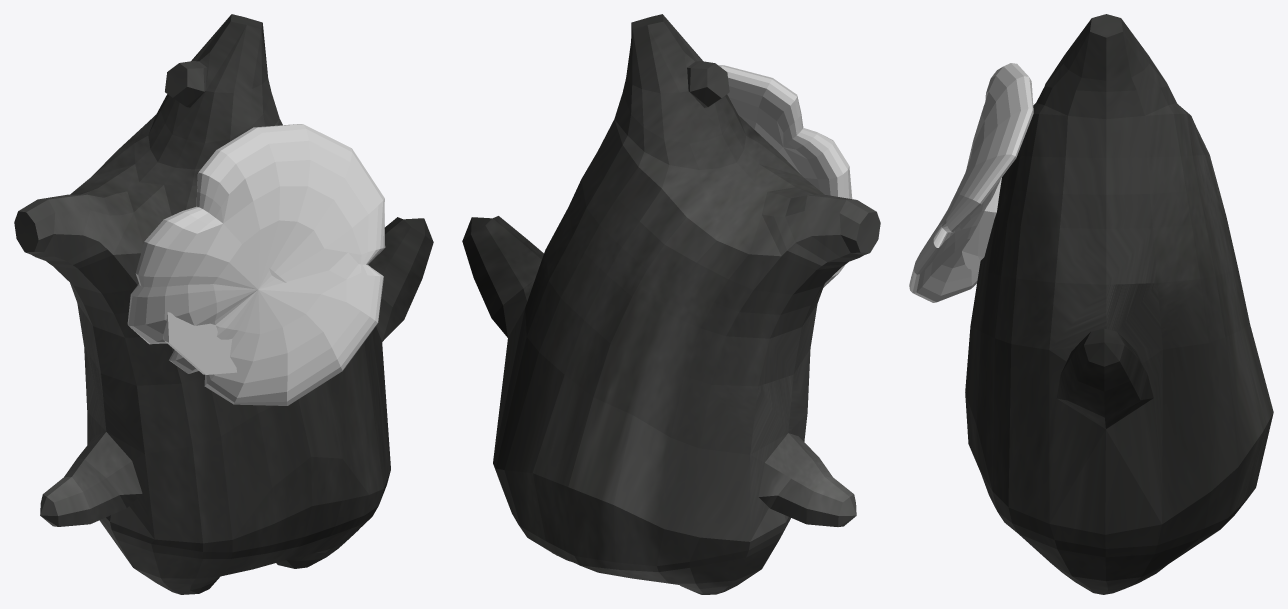
The model's file is frame_0015.obj.
3 renders of one model, left to right at view 1: azimuth 30°, elevation 25°; view 2: azimuth 150°, elevation 25°; view 3: azimuth 270°, elevation 25°, orthographic. The views are drawn at different scales.
Visible parts, largest first — view 1: korok, leaf, nose; view 2: korok, leaf; view 3: korok, leaf, nose.
Part boxes in pixels (x1,y1,x2,y2): korok: [14, 14, 433, 594]; leaf: [127, 124, 385, 405]; nose: [163, 268, 286, 374]; korok: [462, 14, 880, 594]; leaf: [718, 65, 852, 287]; korok: [965, 14, 1273, 594]; leaf: [909, 63, 1033, 302]; nose: [962, 178, 1001, 271].
Bounding box in the file's own units: 1.72 × 2.28 × 1.38.
